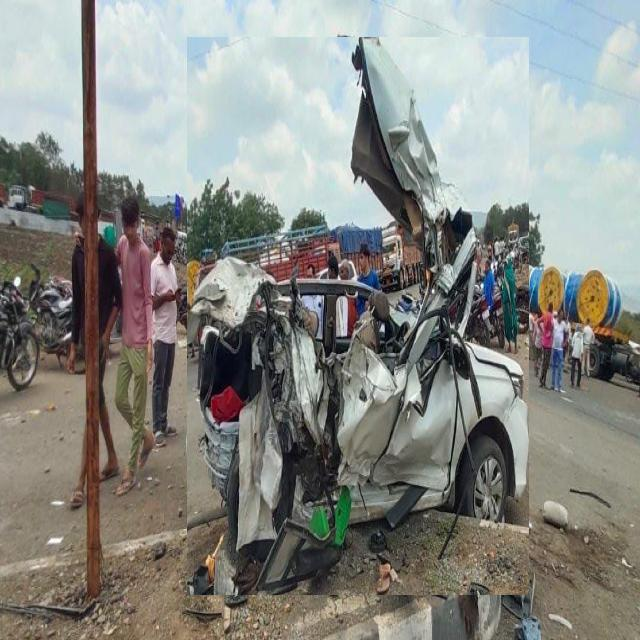accident: (187, 37, 528, 595)
